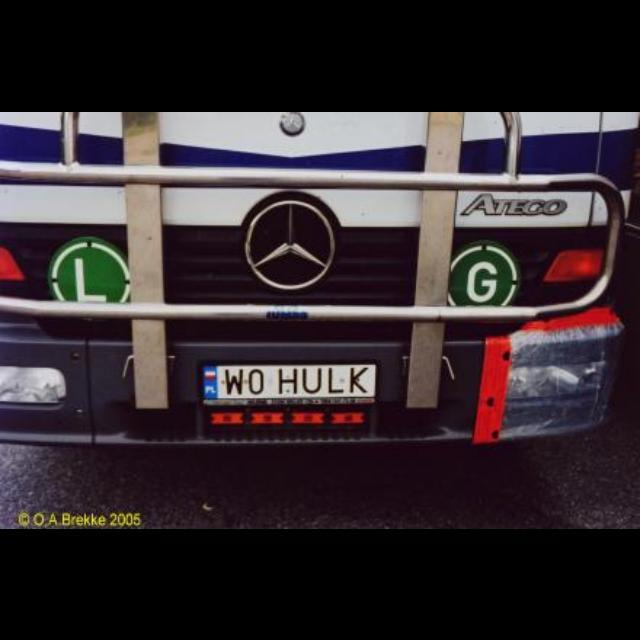license-plates: (203, 365, 376, 406)
